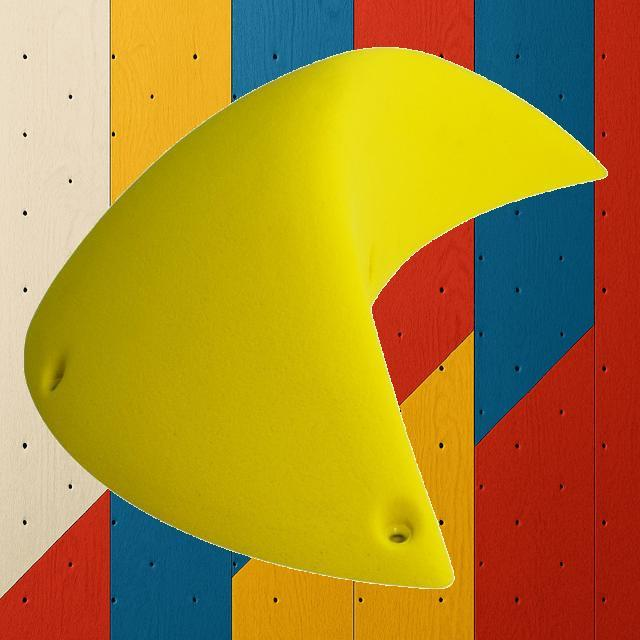Jug: (22, 45, 608, 589)
